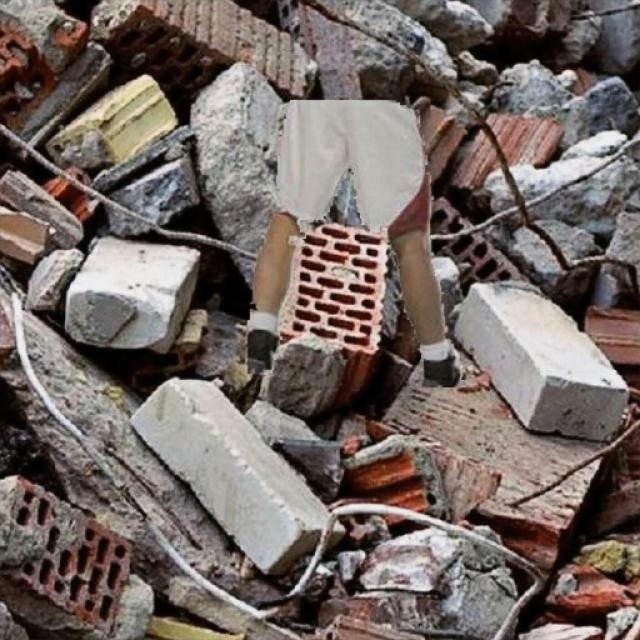Person in Rubble: (248, 100, 472, 386)
